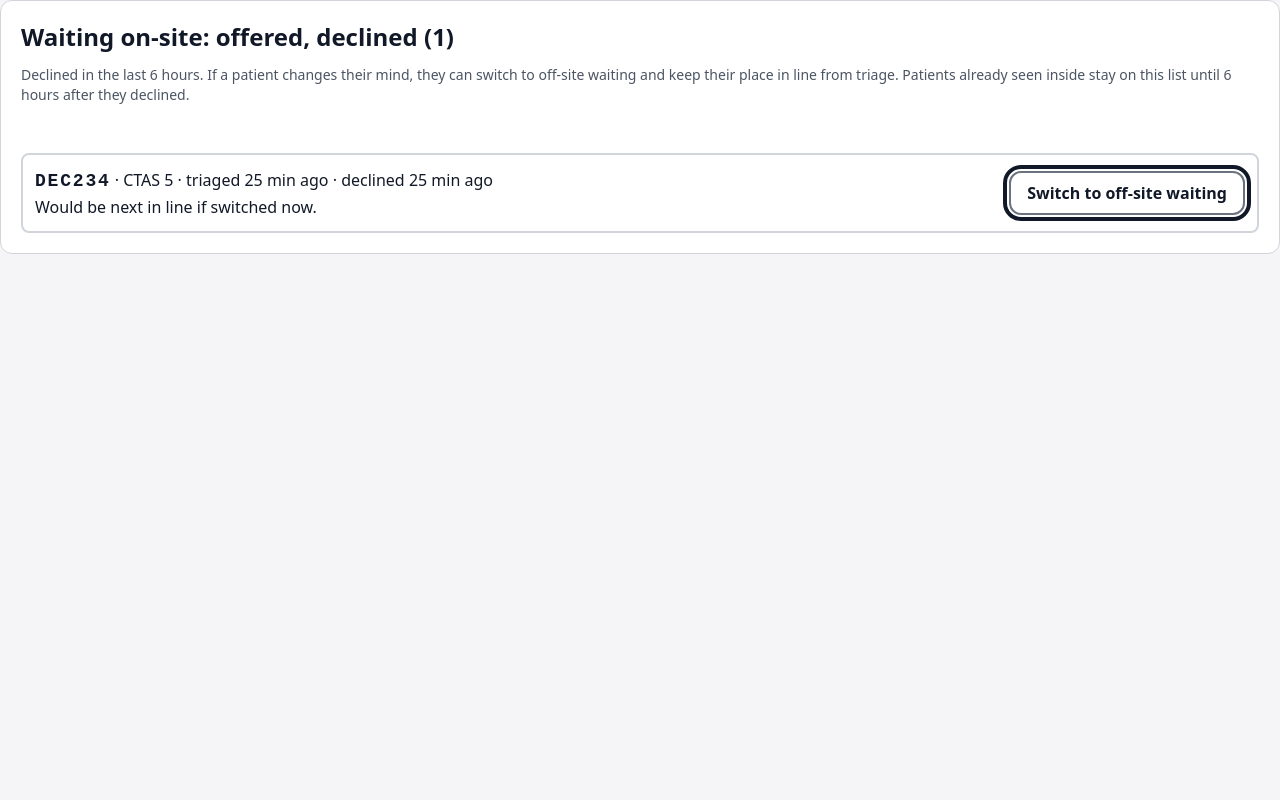
Test: WaitingOnSite › Cancel closes the checklist without saving
The width and height of the screenshot is (1280, 800).
Click the button "Switch to off-site waiting": (1127,193) [1009,171,1245,215]
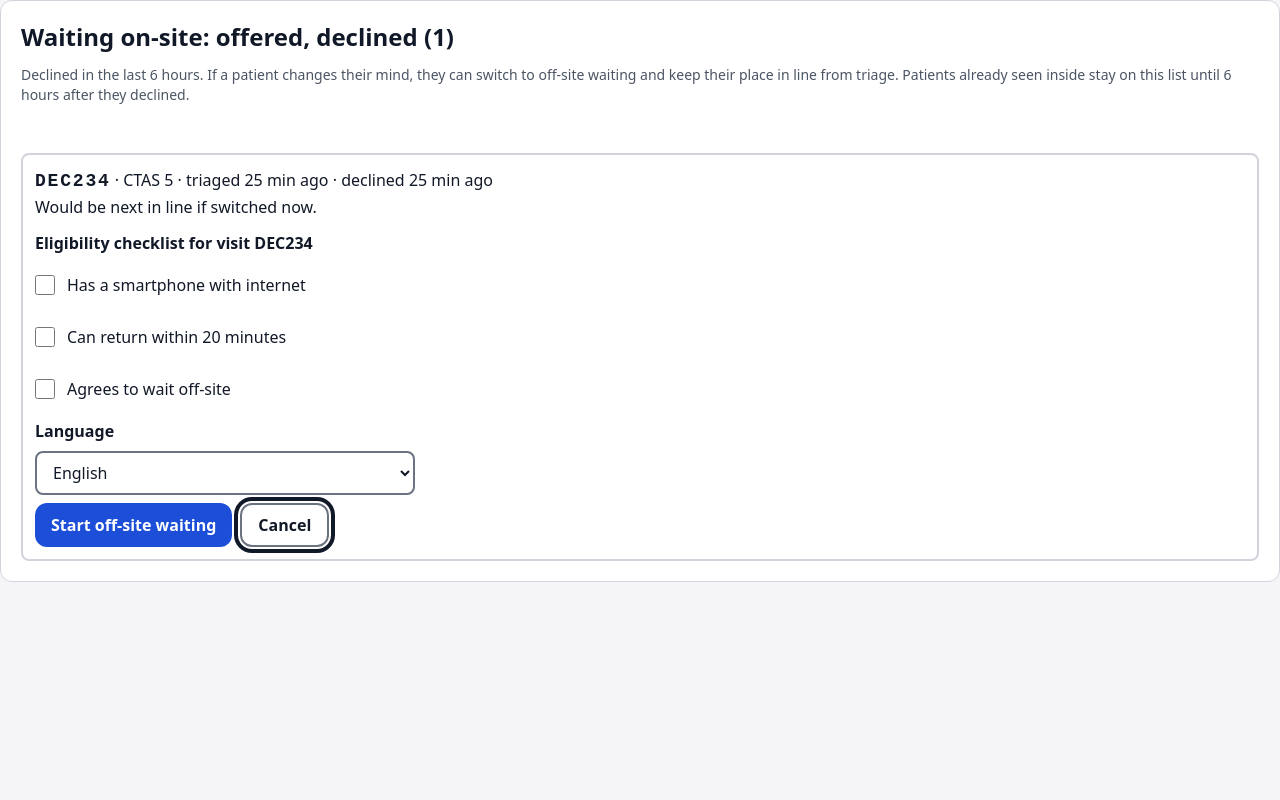
Click the button "Cancel": (285,525) [240,503,329,547]
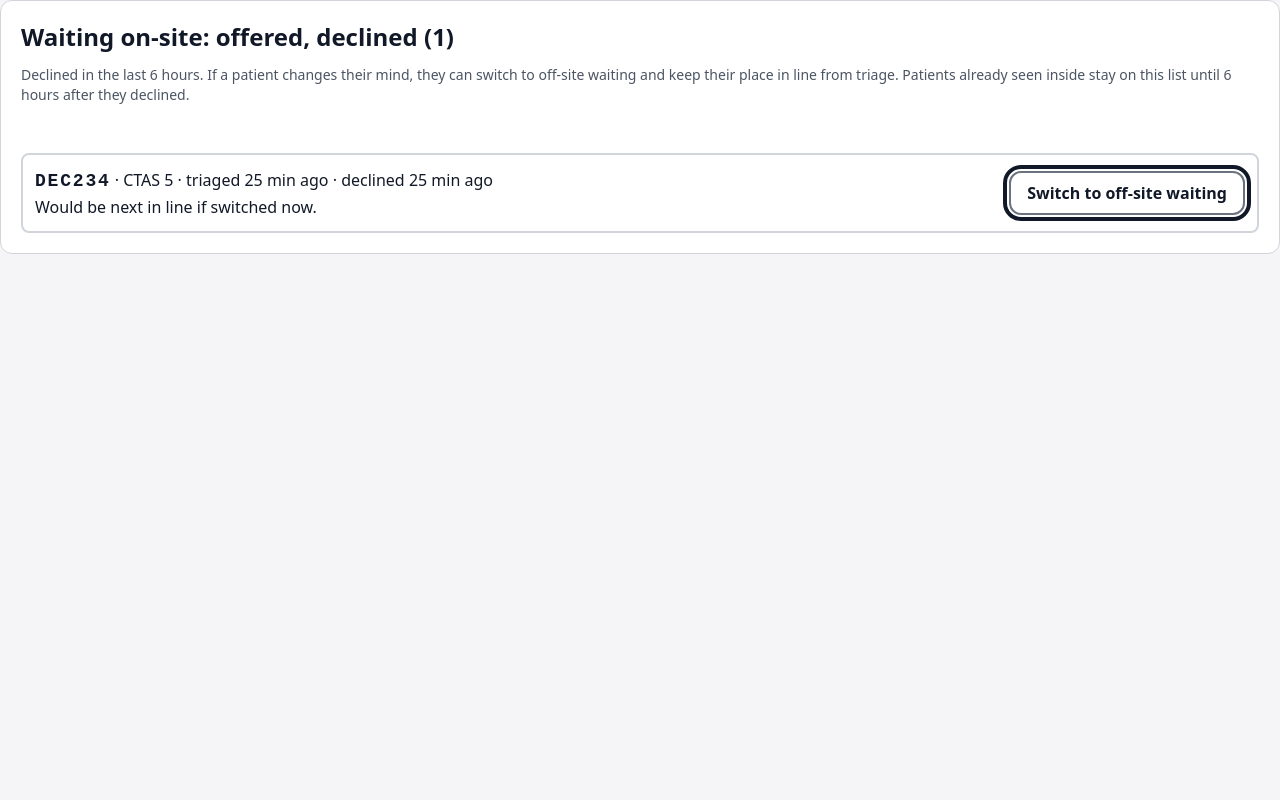
Expected: the checkbox is gone
